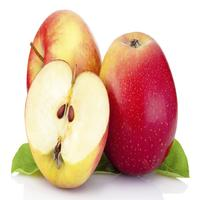apple: (16, 57, 115, 189), (95, 34, 182, 177), (17, 9, 102, 98)
